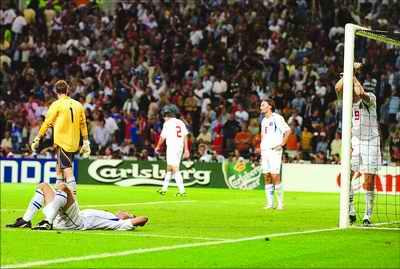down: (2, 176, 149, 238)
up: (32, 80, 95, 214), (331, 69, 381, 227), (255, 94, 292, 215), (151, 107, 194, 201)
